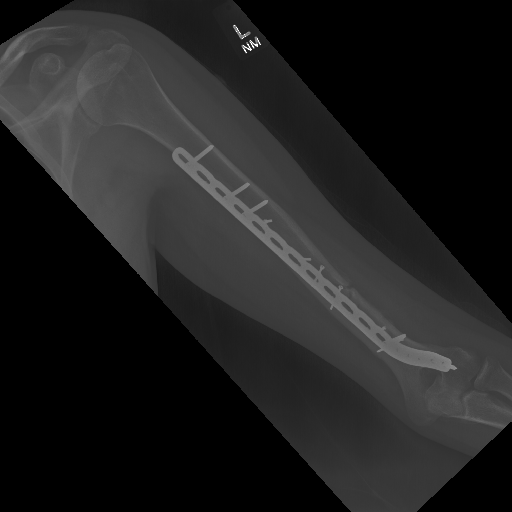implant: (308, 260, 454, 374), (172, 124, 276, 237)
